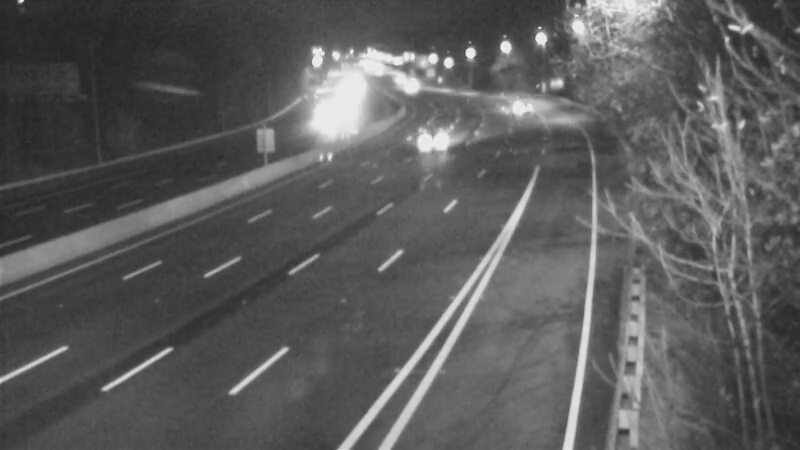vehicle: (387, 63, 437, 113), (493, 82, 543, 132), (402, 119, 452, 169)
